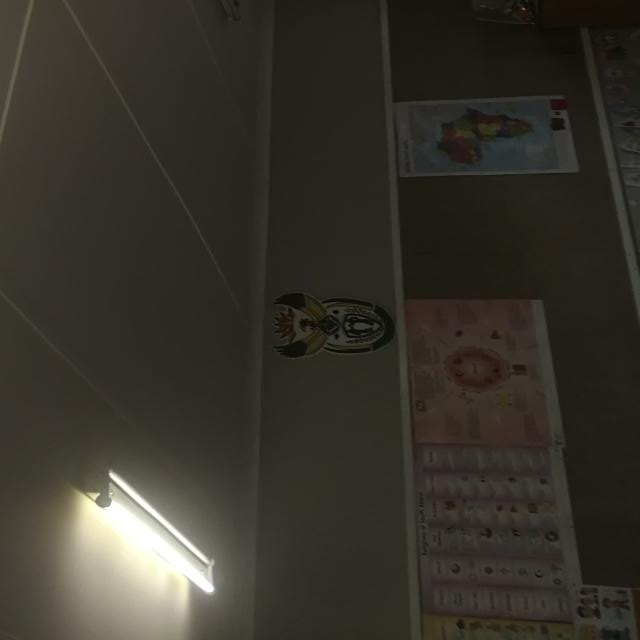fluorescent tube: (46, 466, 242, 611)
